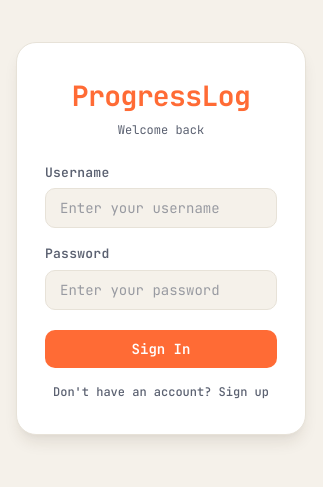
Test case: Login — login mode › shows error message on failed login
Type "alice" into the field labelled "Username" at (161, 208), box [45, 188, 277, 228]
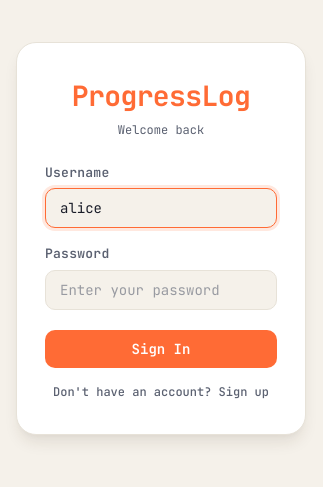
Type "wrong" into the password field labelled "Password" at (161, 290), box [45, 270, 277, 310]
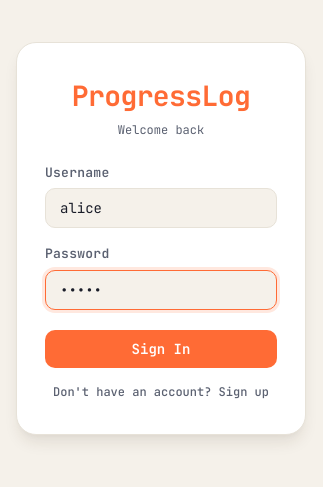
Click the button "Sign In" at (161, 348), box [45, 330, 277, 368]
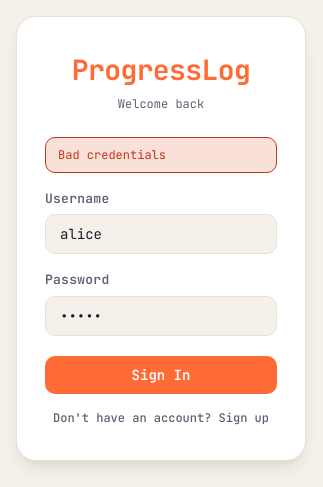
Expected: the text "Bad credentials" is shown, [45, 136, 277, 172]
